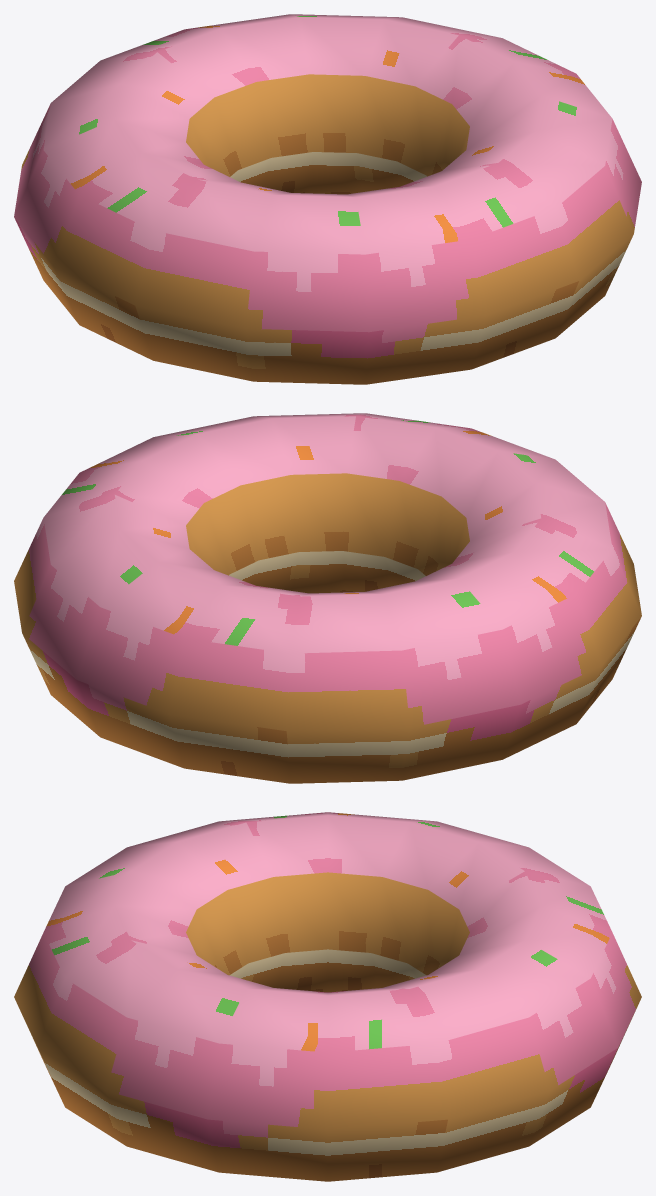
Rendered from meals-donut.glb.
3 views of the same model, one above another, from view 1: azimuth 30°, elevation 25°; view 2: azimuth 150°, elevation 25°; view 3: azimuth 270°, elevation 25° (orthographic).
Visible parts, largest first — view 1: meals.donut; view 2: meals.donut; view 3: meals.donut.
Boxes of the visible parts, <box> form: meals.donut: <box>14,14,641,384</box>; meals.donut: <box>14,413,641,783</box>; meals.donut: <box>14,812,641,1181</box>.
Bounding box in the file's own units: 2 × 0.6415 × 2.
Materials: 1 (1 with a texture image).
